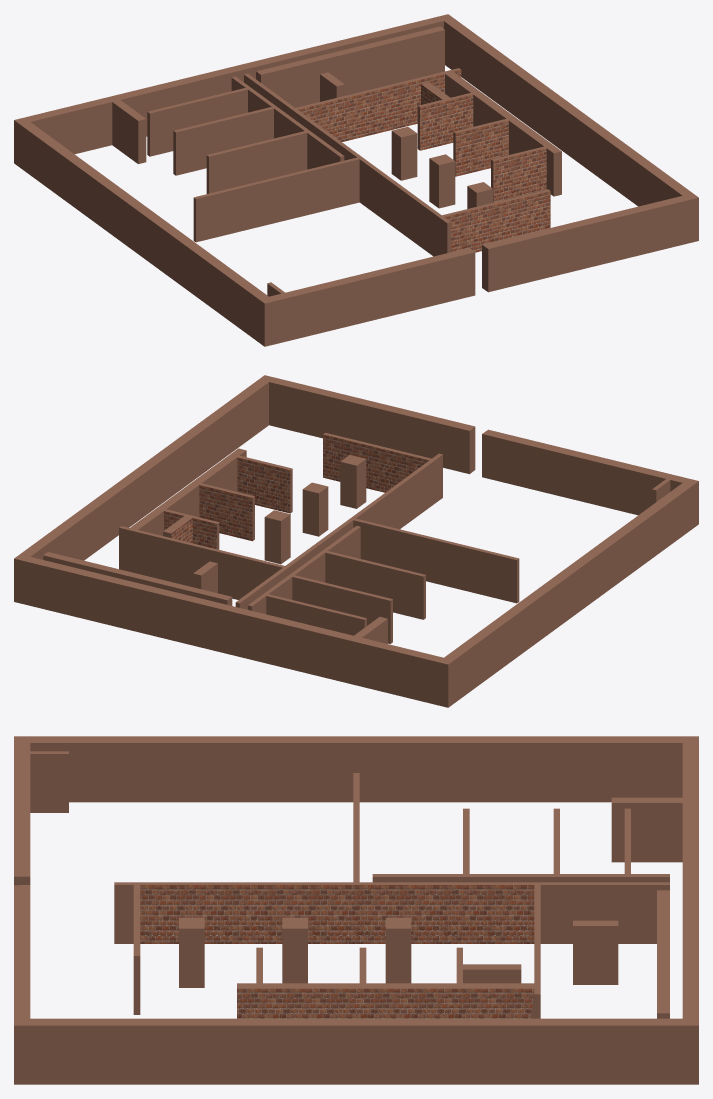
Rendered from walls.dae.
The picture shows the model from 3 angles, top to bottom: view 1: azimuth 30°, elevation 25°; view 2: azimuth 150°, elevation 25°; view 3: azimuth 270°, elevation 25°; orthographic projection. The views are drawn at different scales.
Visible parts, largest first — view 1: walls; view 2: walls; view 3: walls.
Part boxes in pixels (left/top/right/bottom): walls: left=14, top=14, right=698, bottom=346; walls: left=14, top=375, right=698, bottom=707; walls: left=14, top=736, right=698, bottom=1084.
Bounding box in the file's own units: 210 × 210 × 20.
1 material, 1 textured.
